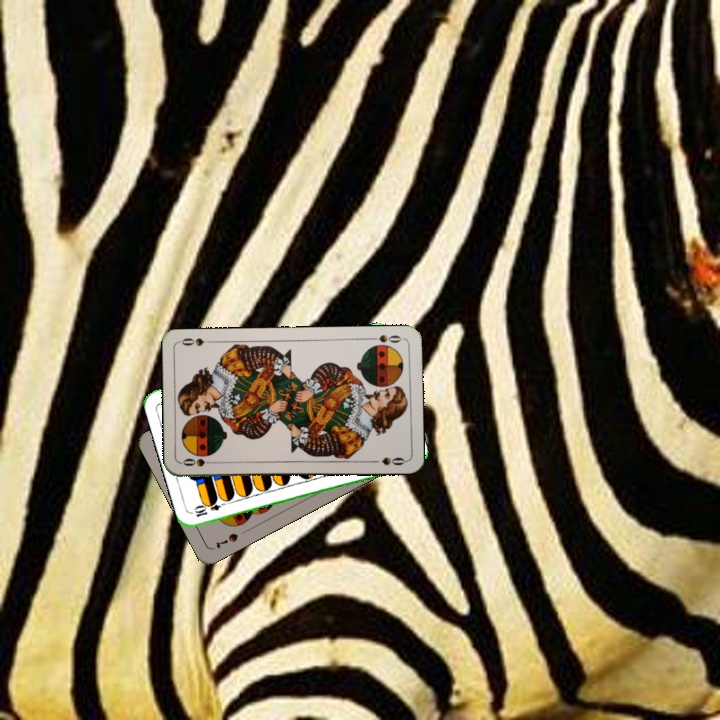E10: (190, 497, 230, 520)
S7: (212, 529, 241, 551)
SO: (179, 454, 219, 469), (365, 331, 406, 345)
